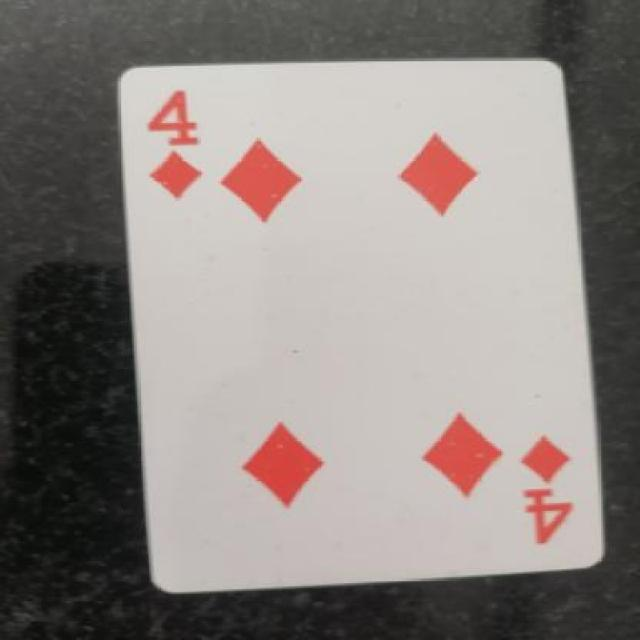4D: (148, 73, 223, 222), (505, 437, 600, 551)
